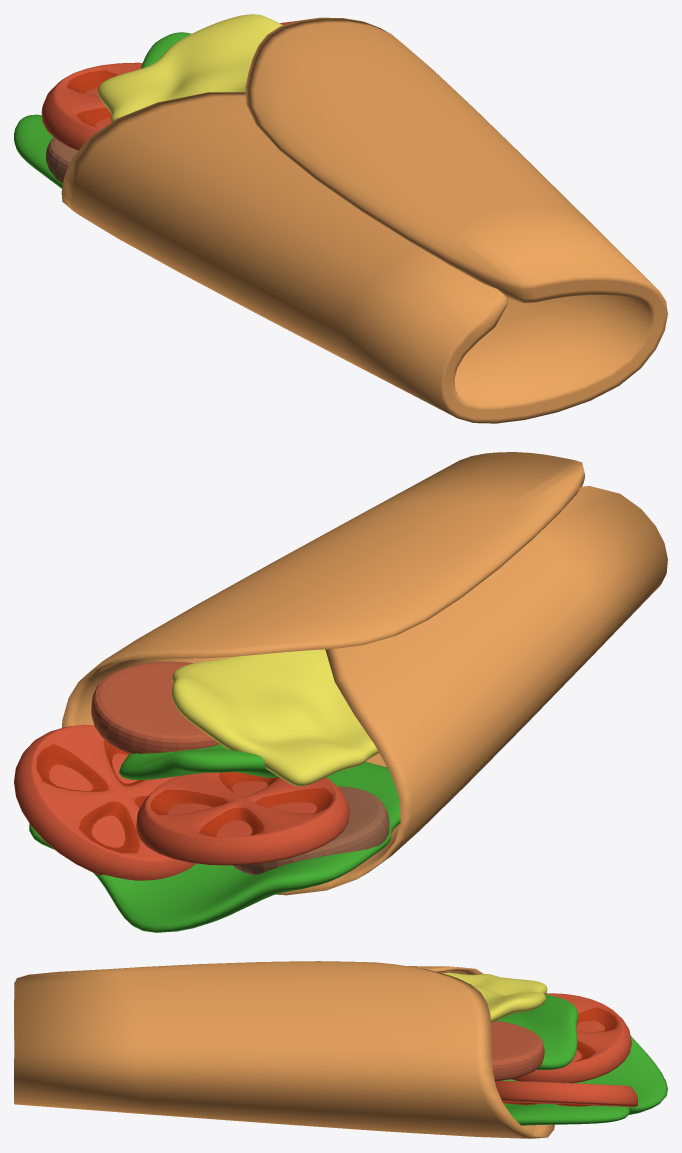
The model's file is shymaher.fbx.
3 renders of one model, top to bottom at view 1: azimuth 30°, elevation 25°; view 2: azimuth 150°, elevation 25°; view 3: azimuth 270°, elevation 25°, orthographic. The views are drawn at different scales.
Visible parts, largest first — view 1: Plane.001; view 2: Plane.001; view 3: Plane.001.
Part boxes in pixels (x1=…): Plane.001: x1=14, y1=14, x2=667, y2=423; Plane.001: x1=14, y1=452, x2=667, y2=932; Plane.001: x1=14, y1=961, x2=667, y2=1138.
Bounding box in the file's own units: 162 × 85.5 × 364.
